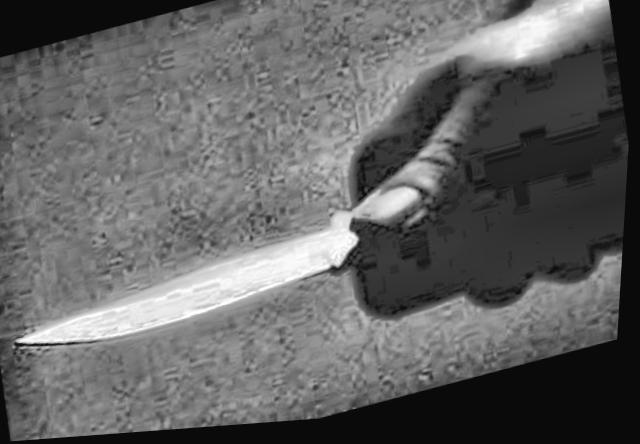knife: (0, 173, 472, 378)
